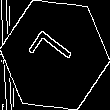L_SE: (28, 28, 82, 82)
